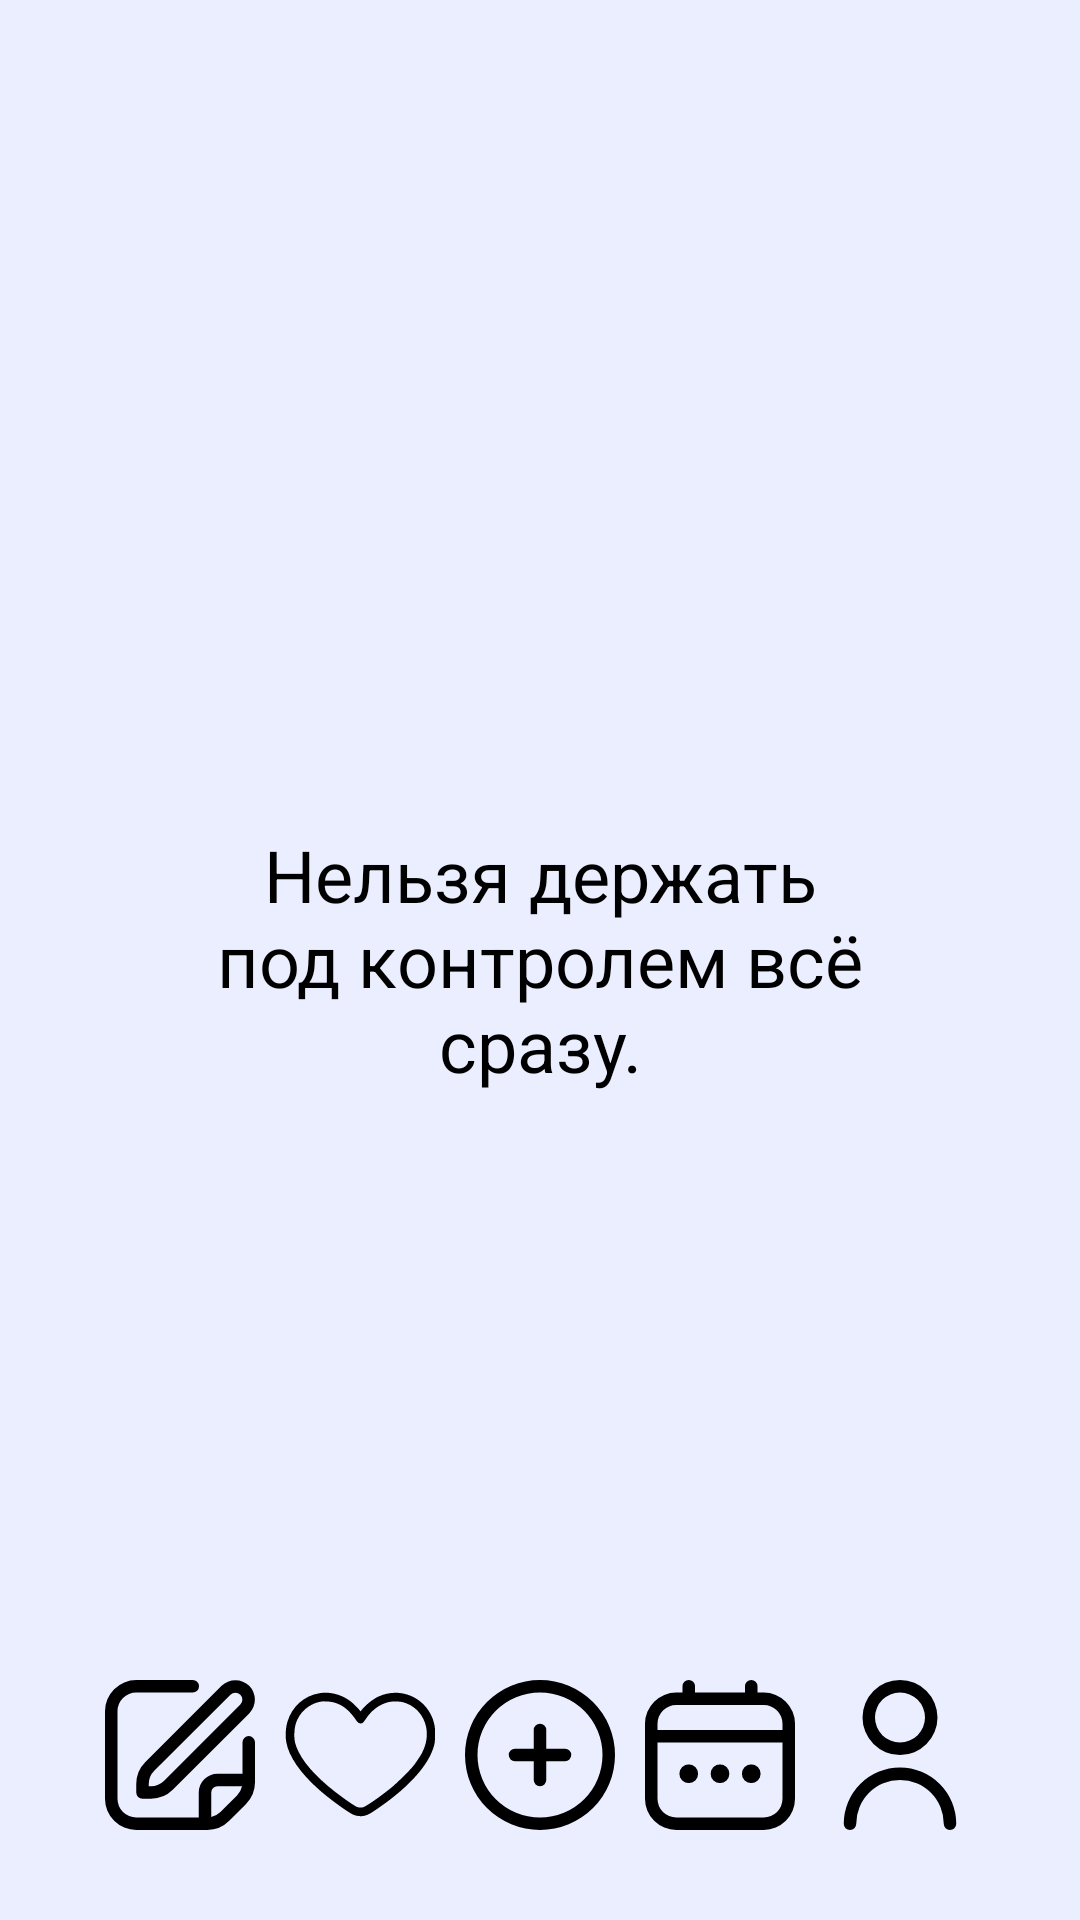

Named icons in this screenshot (1080×1920) and their bounding boxes, (x1, y1, x2, y2):
Добавить запись: (465, 1680, 615, 1830)
Записи: (105, 1680, 255, 1830)
Избранное: (285, 1692, 435, 1817)
Календарь: (645, 1680, 795, 1830)
Пользователь: (843, 1680, 957, 1830)
